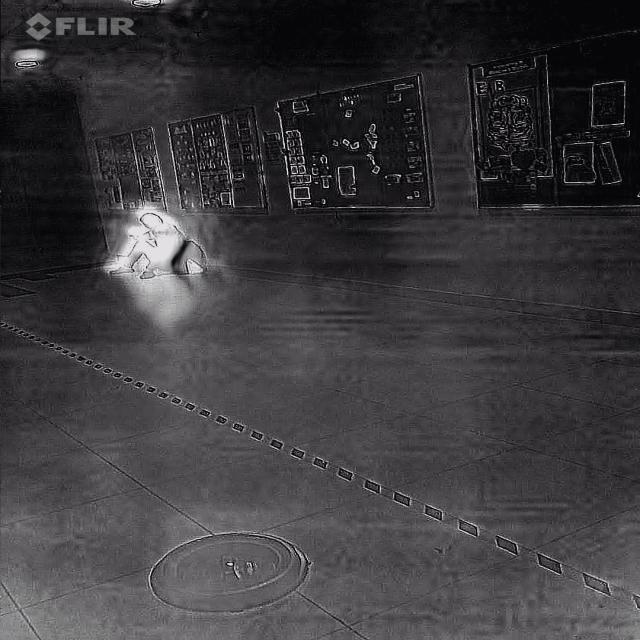Victim: (104, 197, 212, 281)
